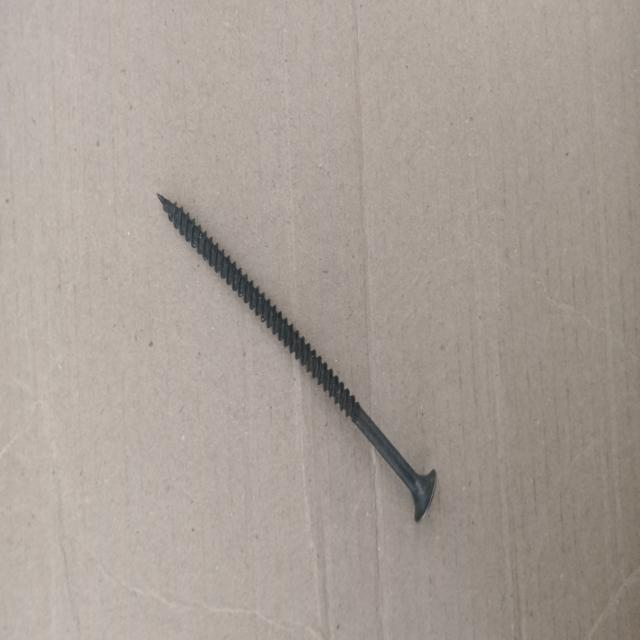screw: (157, 191, 437, 523)
